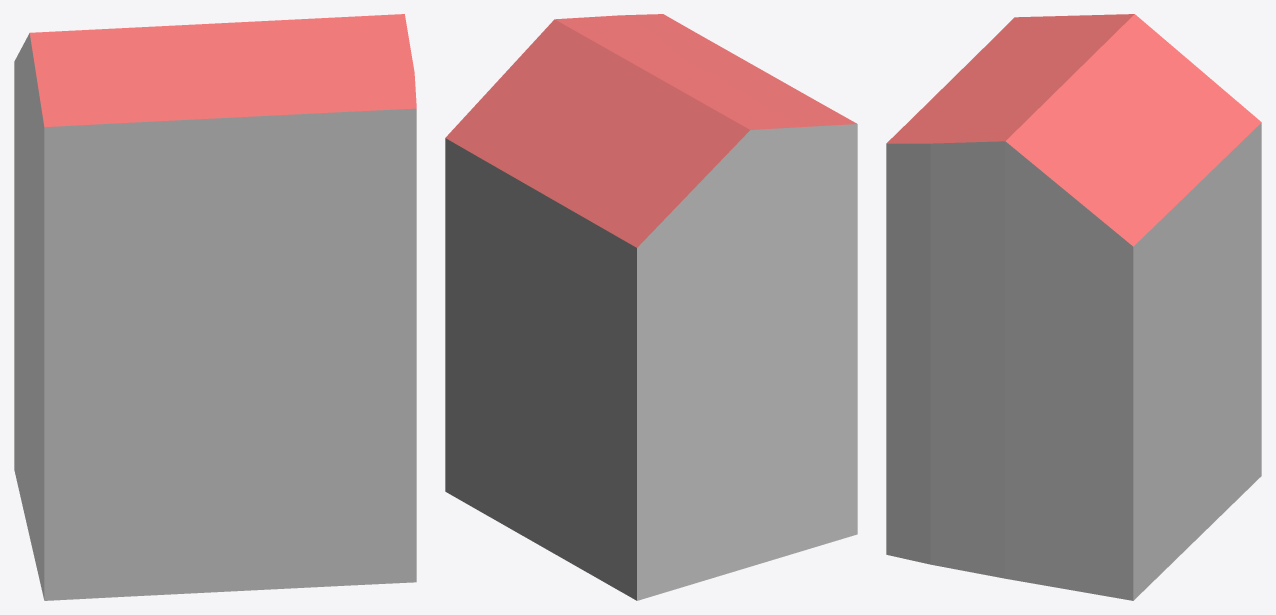
Rendered from DEBY_LOD2_4907192.gltf.
3 renders of one model, left to right at view 1: azimuth 30°, elevation 25°; view 2: azimuth 150°, elevation 25°; view 3: azimuth 270°, elevation 25°, orthographic. The views are drawn at different scales.
Parts seen in each view (by area): view 1: Z_UP; view 2: Z_UP; view 3: Z_UP.
Boxes of the visible parts, x1,y1,x2,y2 form: Z_UP: (14, 14, 416, 600); Z_UP: (445, 14, 857, 600); Z_UP: (886, 14, 1261, 600).
Size of the model in its own units: 16.16 by 19.1 by 14.86.
